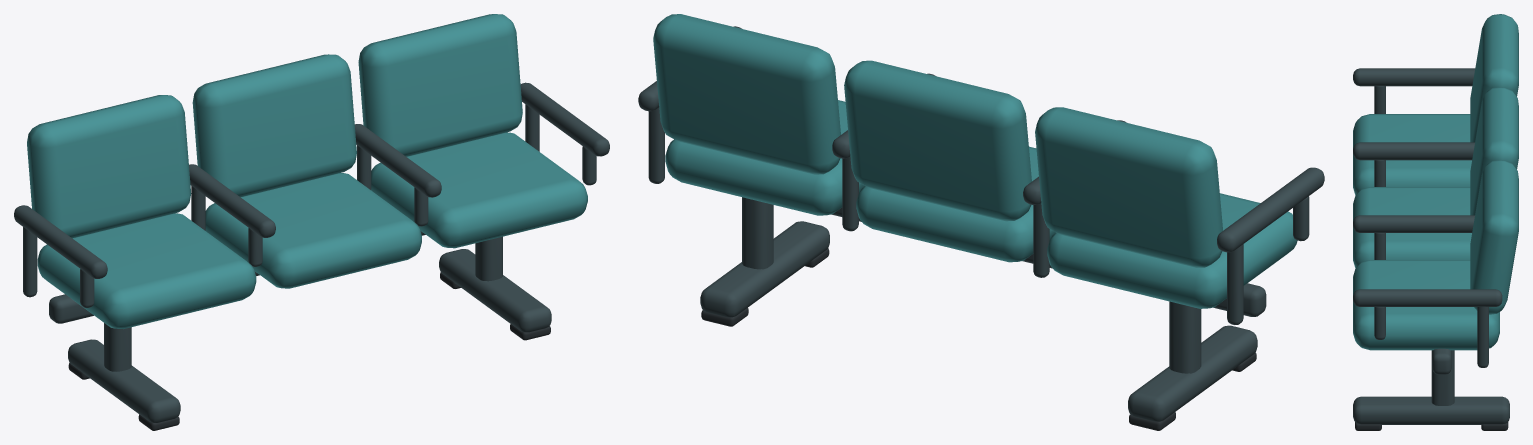
File: HotelTogether-LobbyBench3.glb
The picture shows the model from 3 angles, left to right: view 1: azimuth 30°, elevation 25°; view 2: azimuth 150°, elevation 25°; view 3: azimuth 270°, elevation 25°; orthographic projection. The views are drawn at different scales.
Visible parts, largest first — view 1: Bench_Back_1, Bench_Back_2, Bench_Back_3, Bench_Seat_1, Bench_Seat_3, Bench_Seat_2, Bench_FootBar.001, Bench_FootBar, Bench_Arm, Bench_Arm.003, Bench_Arm.001, Bench_Arm.002 (+5 smaller); view 2: Bench_Back_1, Bench_Back_3, Bench_Back_2, Bench_Seat_1, Bench_Seat_2, Bench_Seat_3, Bench_FootBar.001, Bench_FootBar, Bench_Arm, Bench_Pedestal, Bench_Pedestal.001, Bench_ArmPost (+5 smaller); view 3: Bench_Seat_3, Bench_Seat_1, Bench_Seat_2, Bench_Back_3, Bench_FootBar.001, Bench_Back_2, Bench_Back_1, Bench_Arm.003, Bench_Arm, Bench_Arm.001, Bench_Arm.002, Bench_Pedestal.001 (+8 smaller).
Part boxes in pixels (x1=…): Bench_Back_1: x1=27, y1=95, x2=191, y2=238; Bench_Back_2: x1=192, y1=54, x2=356, y2=197; Bench_Back_3: x1=358, y1=14, x2=522, y2=156; Bench_Seat_1: x1=37, y1=213, x2=256, y2=329; Bench_Seat_3: x1=371, y1=132, x2=587, y2=248; Bench_Seat_2: x1=205, y1=173, x2=421, y2=288; Bench_FootBar.001: x1=439, y1=249, x2=551, y2=332; Bench_FootBar: x1=68, y1=339, x2=180, y2=422; Bench_Arm: x1=14, y1=205, x2=107, y2=278; Bench_Arm.003: x1=520, y1=82, x2=609, y2=156; Bench_Arm.001: x1=189, y1=164, x2=275, y2=237; Bench_Arm.002: x1=354, y1=124, x2=441, y2=197; Bench_Back_1: x1=1035, y1=107, x2=1222, y2=267; Bench_Back_3: x1=653, y1=14, x2=840, y2=174; Bench_Back_2: x1=844, y1=60, x2=1031, y2=221; Bench_Seat_1: x1=1047, y1=193, x2=1297, y2=308; Bench_Seat_2: x1=856, y1=146, x2=1055, y2=262; Bench_Seat_3: x1=665, y1=100, x2=864, y2=215; Bench_FootBar.001: x1=700, y1=221, x2=829, y2=317; Bench_FootBar: x1=1128, y1=325, x2=1257, y2=421; Bench_Arm: x1=1217, y1=167, x2=1324, y2=252; Bench_Pedestal: x1=1169, y1=301, x2=1201, y2=373; Bench_Pedestal.001: x1=742, y1=197, x2=773, y2=269; Bench_ArmPost: x1=1227, y1=244, x2=1243, y2=324; Bench_Seat_3: x1=1353, y1=260, x2=1499, y2=350; Bench_Seat_1: x1=1353, y1=114, x2=1471, y2=195; Bench_Seat_2: x1=1353, y1=187, x2=1471, y2=268; Bench_Back_3: x1=1470, y1=160, x2=1518, y2=314; Bench_FootBar.001: x1=1353, y1=396, x2=1509, y2=424; Bench_Back_2: x1=1470, y1=87, x2=1518, y2=215; Bench_Back_1: x1=1470, y1=14, x2=1518, y2=142; Bench_Arm.003: x1=1353, y1=289, x2=1502, y2=306; Bench_Arm: x1=1353, y1=68, x2=1475, y2=86; Bench_Arm.001: x1=1353, y1=142, x2=1474, y2=160; Bench_Arm.002: x1=1353, y1=215, x2=1474, y2=232; Bench_Pedestal.001: x1=1431, y1=350, x2=1454, y2=405.
Size of the model in its own units: 2.09 by 0.9837 by 0.6441.
